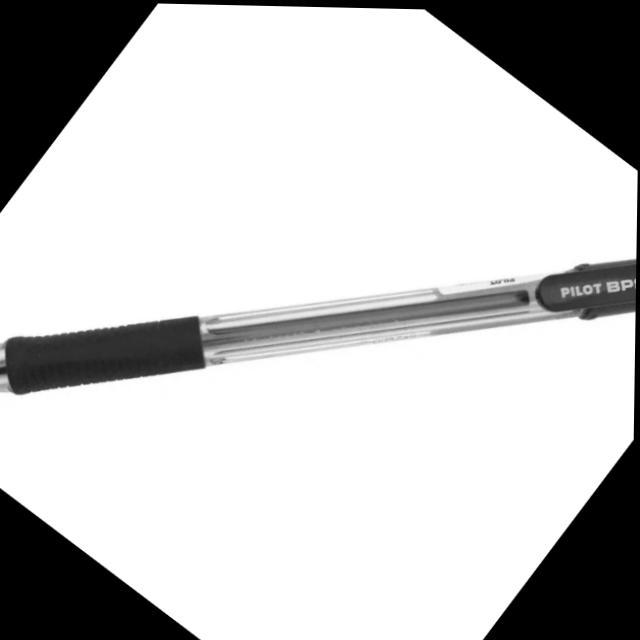pencil: (0, 242, 640, 398)
